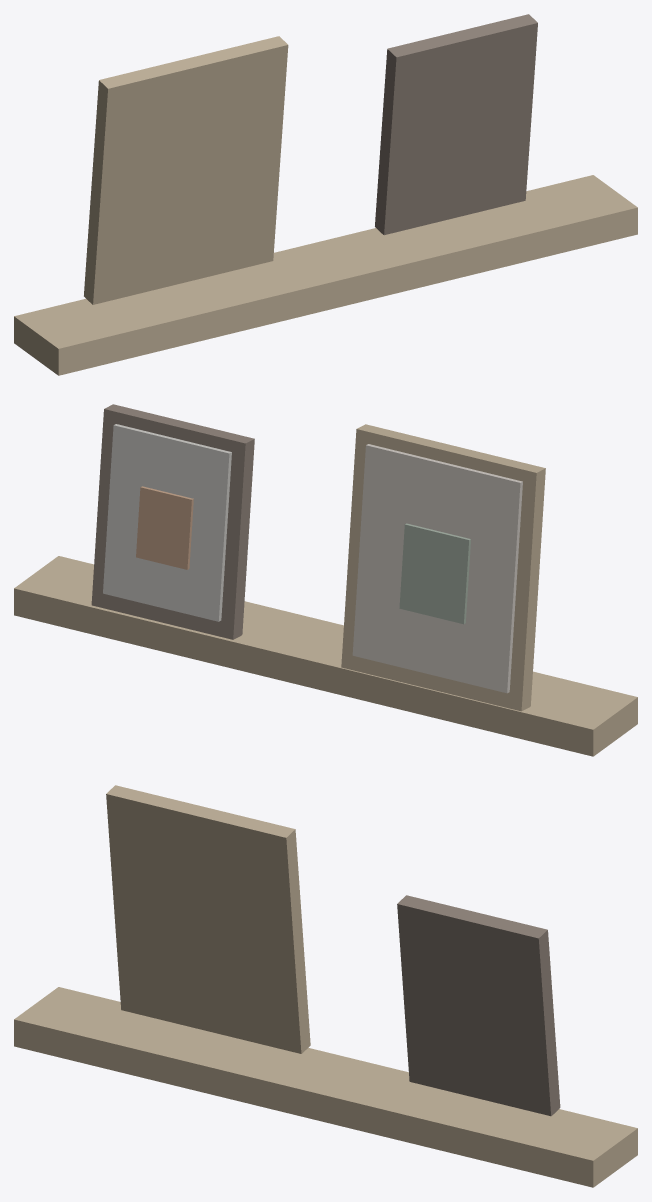
The model's file is arte_prateleira_quadros.glb.
3 renders of one model, top to bottom at view 1: azimuth 30°, elevation 25°; view 2: azimuth 150°, elevation 25°; view 3: azimuth 330°, elevation 25°, orthographic.
Parts seen in each view (by area): view 1: ARTE_PRATELEIRA_QUADROS_v01; view 2: ARTE_PRATELEIRA_QUADROS_v01; view 3: ARTE_PRATELEIRA_QUADROS_v01.
Part boxes in pixels (box(x1,y1,x2,y2)): ARTE_PRATELEIRA_QUADROS_v01: box(14, 14, 637, 375); ARTE_PRATELEIRA_QUADROS_v01: box(14, 404, 637, 756); ARTE_PRATELEIRA_QUADROS_v01: box(14, 785, 637, 1187).
Bounding box in the file's own units: 0.9 × 0.3803 × 0.1269.
